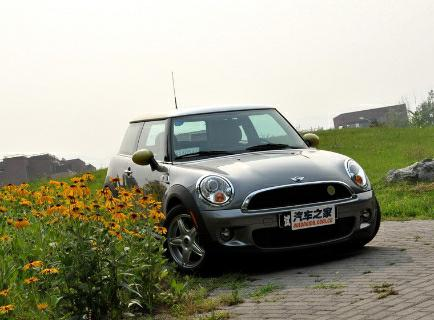MINI: (111, 97, 390, 279)
